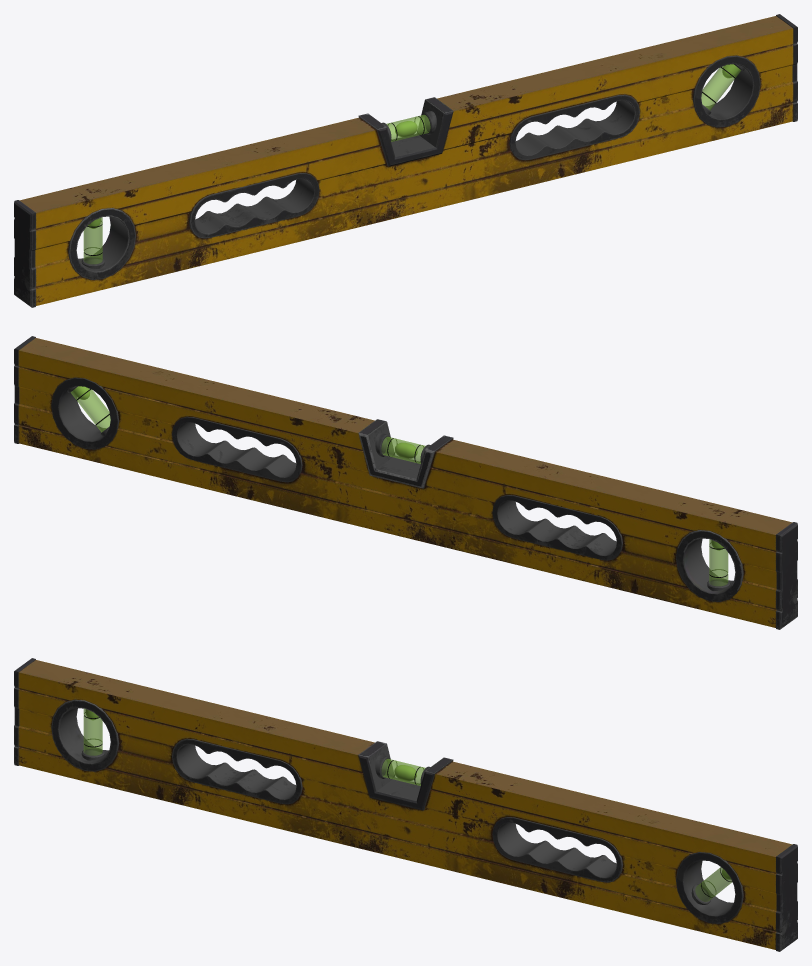
File: spirit_level_low_poly.glb
The picture shows the model from 3 angles, top to bottom: view 1: azimuth 30°, elevation 25°; view 2: azimuth 150°, elevation 25°; view 3: azimuth 330°, elevation 25°; orthographic projection.
Parts seen in each view (by area): view 1: Base_0, polySurface12_19, polySurface15_20, polySurface10_23, polySurface17_21, polySurface19.002_16, polySurface19_4, polySurface19.001_10, polySurface18_22; view 2: Base_0, polySurface12_19, polySurface15_20, polySurface10_23, polySurface17_21, polySurface19.002_16, polySurface19_4, polySurface19.001_10, polySurface18_22; view 3: Base_0, polySurface12_19, polySurface15_20, polySurface10_23, polySurface18_22, polySurface19_4, polySurface19.001_10, polySurface19.002_16, polySurface17_21.
Boxes of the visible parts, x1,y1,x2,y2 form: Base_0: (19,16,793,305); polySurface12_19: (189,94,639,238); polySurface15_20: (68,55,760,279); polySurface10_23: (358,97,453,166); polySurface17_21: (14,200,35,307); polySurface19.002_16: (701,64,741,110); polySurface19_4: (83,217,102,264); polySurface19.001_10: (386,114,430,141); polySurface18_22: (776,14,797,121); Base_0: (18,338,792,627); polySurface12_19: (172,416,622,560); polySurface15_20: (51,377,743,601); polySurface10_23: (358,419,453,488); polySurface17_21: (776,522,797,629); polySurface19.002_16: (70,386,110,432); polySurface19_4: (709,539,728,586); polySurface19.001_10: (381,436,425,463); polySurface18_22: (14,336,35,443); Base_0: (18,660,792,949); polySurface12_19: (172,738,622,882); polySurface15_20: (51,699,743,923); polySurface10_23: (358,741,453,810); polySurface18_22: (776,844,797,951); polySurface19_4: (83,708,102,755); polySurface19.001_10: (381,758,425,785); polySurface19.002_16: (695,867,731,901); polySurface17_21: (14,658,35,765).
Size of the model in its own units: 0.7203 by 0.085 by 0.0327.
Materials: 3 (1 with a texture image).
